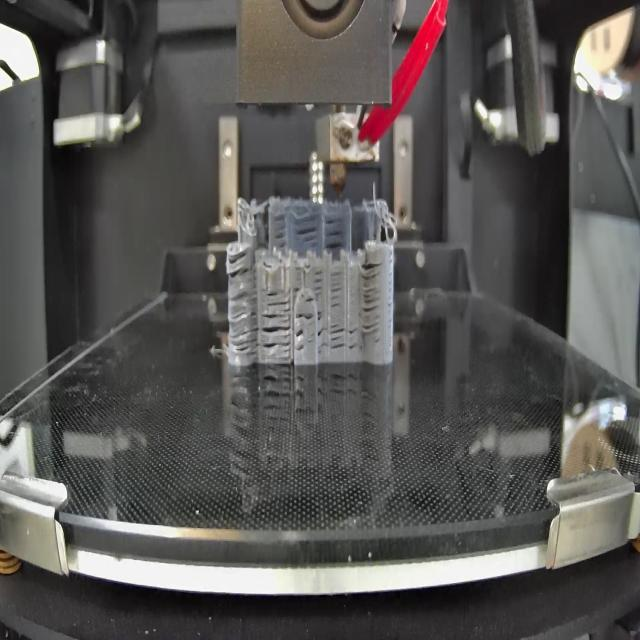cracks: (228, 291, 258, 352), (361, 258, 384, 336), (262, 313, 293, 362), (227, 248, 254, 282), (329, 322, 360, 349), (324, 214, 346, 250), (297, 213, 320, 246), (330, 270, 344, 311), (317, 308, 326, 360), (274, 217, 289, 248), (267, 288, 290, 306), (294, 310, 314, 322), (295, 328, 305, 352), (314, 270, 324, 293), (294, 262, 302, 290), (302, 293, 315, 304)
